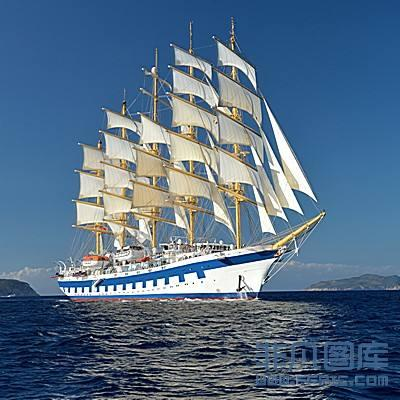fanchuan: (56, 8, 328, 309)
